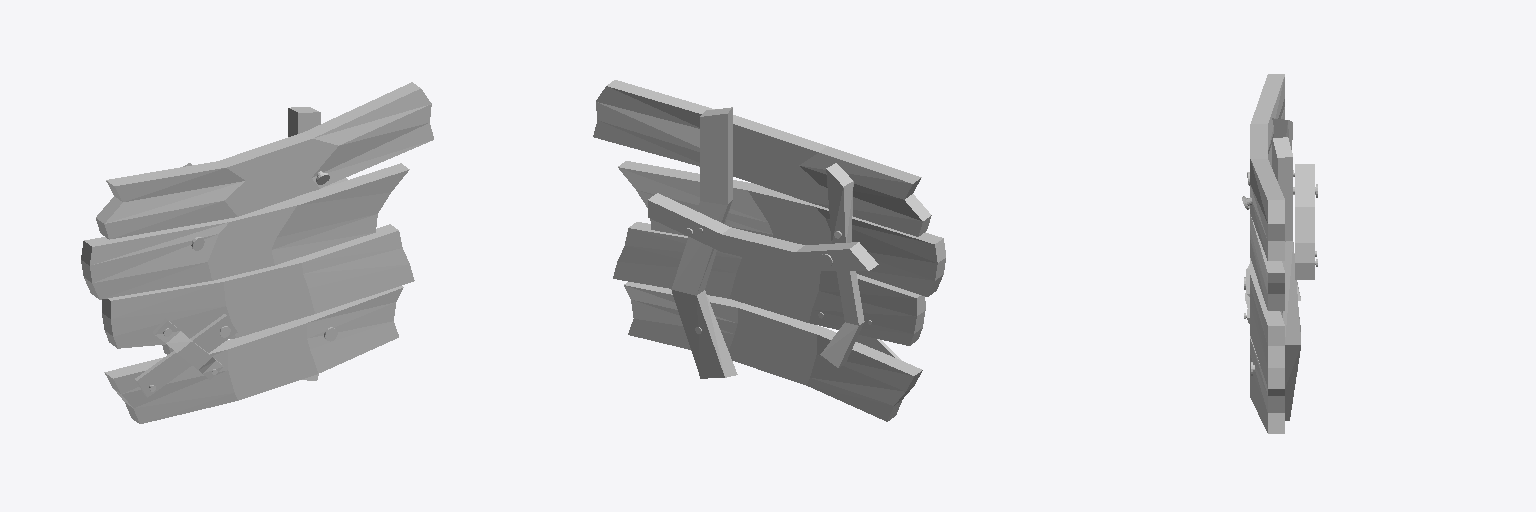
File: signshield.obj
3 views of the same model, side by side, from view 1: azimuth 30°, elevation 25°; view 2: azimuth 150°, elevation 25°; view 3: azimuth 270°, elevation 25° (orthographic).
Parts seen in each view (by area): view 1: SignShield; view 2: SignShield; view 3: SignShield.
Part boxes in pixels (bbox=[...]): SignShield: bbox=[81, 82, 433, 423]; SignShield: bbox=[593, 80, 945, 421]; SignShield: bbox=[1242, 74, 1317, 433].
Size of the model in its own units: 20.54 by 15.54 by 3.94.